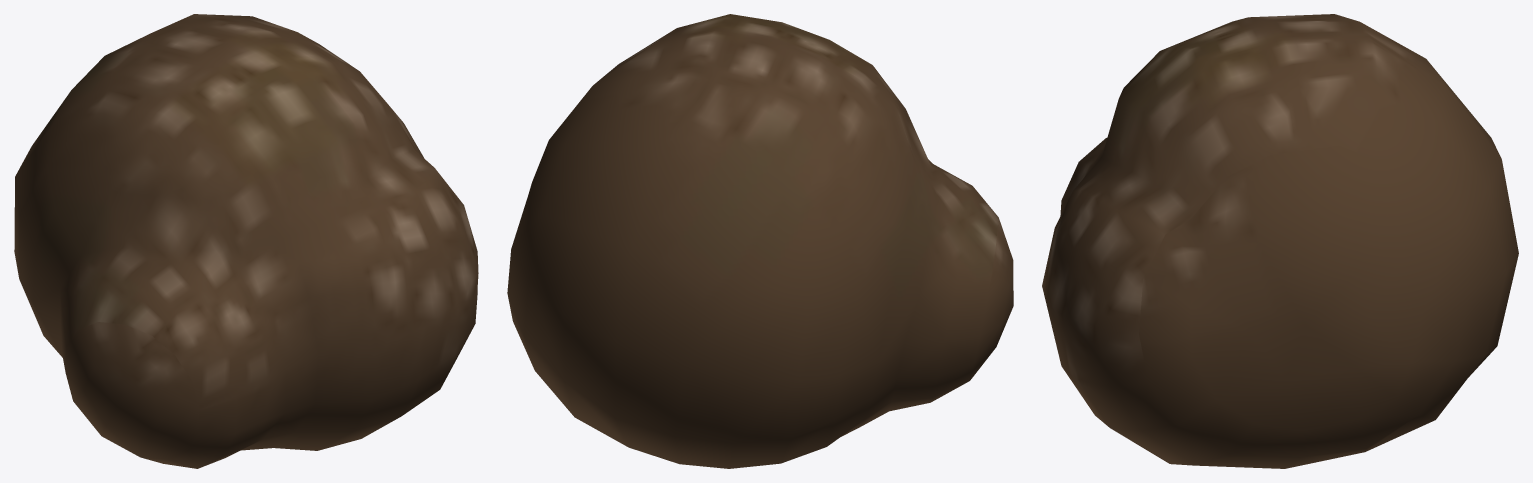
Rendered from rare-mushroom.glb.
3 views of the same model, side by side, from view 1: azimuth 30°, elevation 25°; view 2: azimuth 150°, elevation 25°; view 3: azimuth 270°, elevation 25° (orthographic). The views are drawn at different scales.
Bounding box in the file's own units: 2.82 × 2.63 × 2.88.
Materials: 1 (1 with a texture image).
